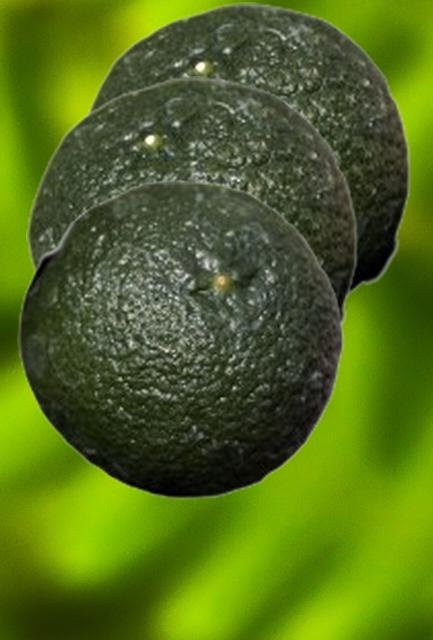calamansi: (17, 180, 344, 498), (81, 2, 410, 301), (26, 76, 357, 330)
